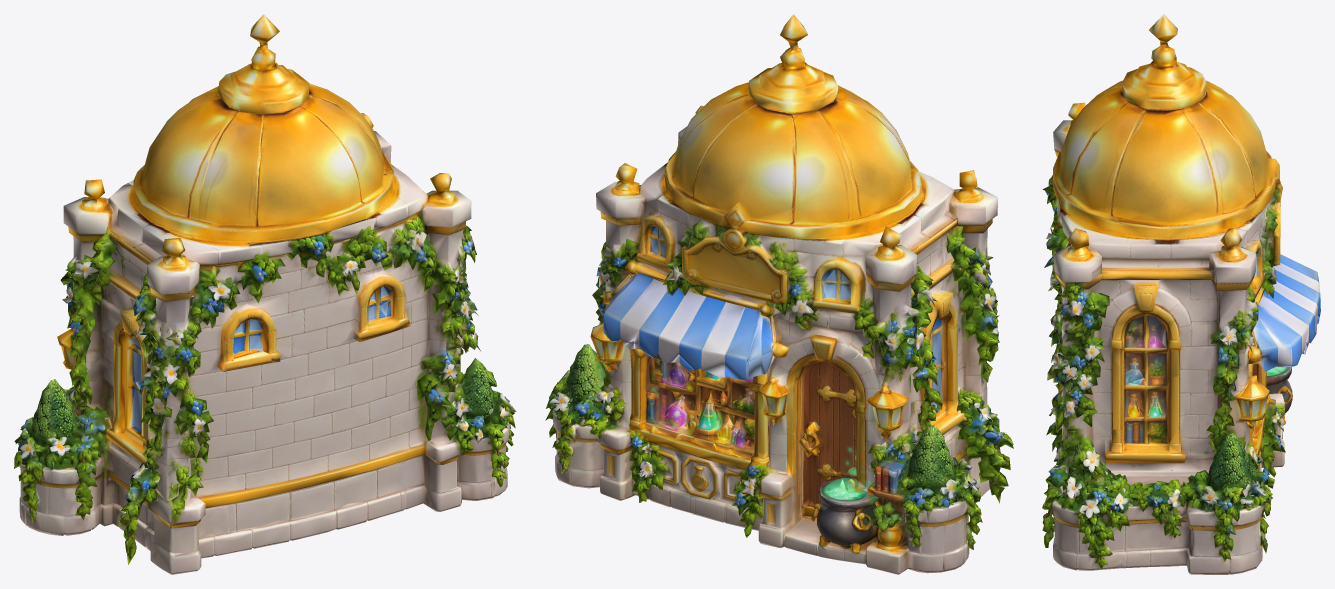
Rendered from HaloShop_Potion_parts.glb.
3 renders of one model, left to right at view 1: azimuth 30°, elevation 25°; view 2: azimuth 150°, elevation 25°; view 3: azimuth 270°, elevation 25°, orthographic. The views are drawn at different scales.
Visible parts, largest first — view 1: HaloShop_Potion_Body_t10, HaloShop_Potion_Body_t00, HaloShop_Potion_Body_t11, HaloShop_Potion_Body_t01, HaloShop_Potion_Display, HaloShop_Potion_WinPane, HaloShop_Potion_Glass; view 2: HaloShop_Potion_Body_t10, HaloShop_Potion_Body_t00, HaloShop_Potion_Body_t01, HaloShop_Potion_Body_t11, HaloShop_Potion_Awning, HaloShop_Potion_Display, HaloShop_Potion_Door, HaloShop_Potion_WinPane, HaloShop_Potion_Glass; view 3: HaloShop_Potion_Body_t10, HaloShop_Potion_Body_t01, HaloShop_Potion_Body_t00, HaloShop_Potion_Body_t11, HaloShop_Potion_Awning, HaloShop_Potion_Display.
Part boxes in pixels (x1,y1,x2,y2): HaloShop_Potion_Body_t10: [14, 14, 516, 550]; HaloShop_Potion_Body_t00: [18, 84, 513, 574]; HaloShop_Potion_Body_t11: [14, 14, 515, 564]; HaloShop_Potion_Body_t01: [14, 95, 514, 558]; HaloShop_Potion_Display: [269, 288, 457, 488]; HaloShop_Potion_WinPane: [127, 287, 391, 435]; HaloShop_Potion_Glass: [127, 286, 391, 435]; HaloShop_Potion_Body_t10: [545, 15, 997, 573]; HaloShop_Potion_Body_t00: [549, 82, 1008, 574]; HaloShop_Potion_Body_t01: [549, 125, 1013, 572]; HaloShop_Potion_Body_t11: [550, 14, 1010, 571]; HaloShop_Potion_Awning: [596, 246, 772, 379]; HaloShop_Potion_Display: [618, 340, 754, 474]; HaloShop_Potion_Door: [809, 361, 882, 553]; HaloShop_Potion_WinPane: [649, 226, 943, 476]; HaloShop_Potion_Glass: [648, 226, 942, 477]; HaloShop_Potion_Body_t10: [1042, 14, 1292, 574]; HaloShop_Potion_Body_t01: [1042, 83, 1285, 570]; HaloShop_Potion_Body_t00: [1042, 96, 1289, 574]; HaloShop_Potion_Body_t11: [1043, 14, 1284, 570]; HaloShop_Potion_Awning: [1251, 254, 1320, 393]; HaloShop_Potion_Display: [1046, 310, 1261, 463].
Bounding box in the file's own units: 28.3 × 30.46 × 16.44.
10 materials, 9 textured.
